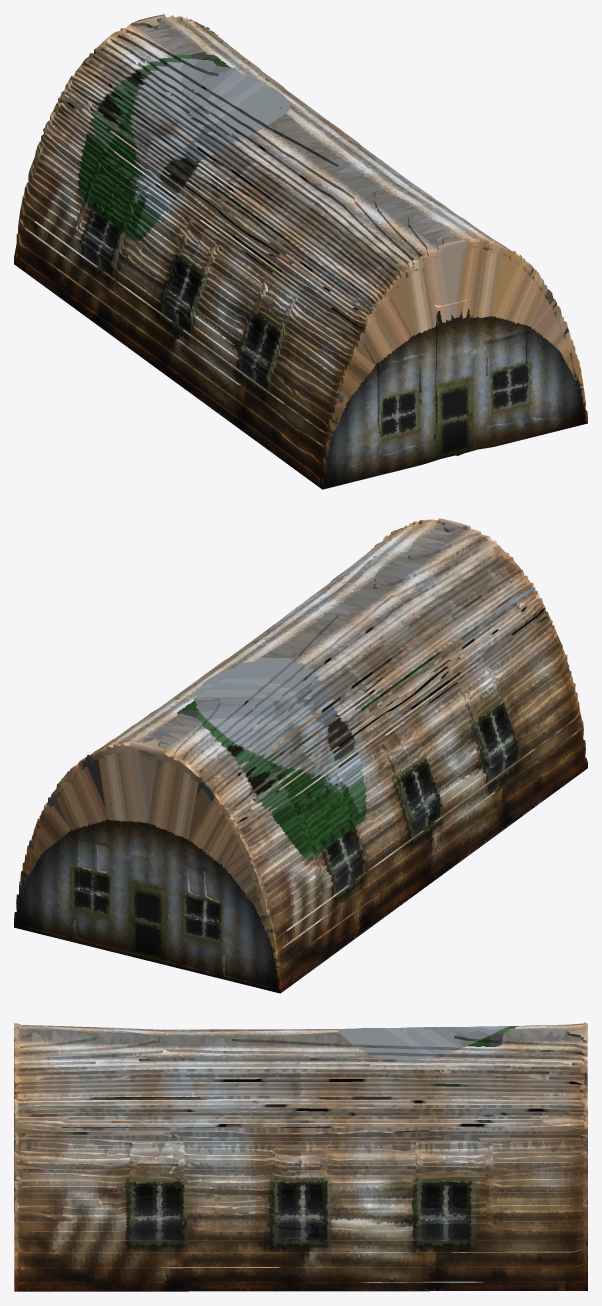
The model's file is quonset2_hd.glb.
The picture shows the model from 3 angles, top to bottom: view 1: azimuth 30°, elevation 25°; view 2: azimuth 150°, elevation 25°; view 3: azimuth 270°, elevation 25°; orthographic projection. The views are drawn at different scales.
Visible parts, largest first — view 1: hd_body; view 2: hd_body; view 3: hd_body.
Part boxes in pixels (x1,y1,x2,y2): hd_body: (14,14,587,489); hd_body: (14,518,587,993); hd_body: (14,1022,587,1291).
Bounding box in the file's own units: 8.46 × 6.49 × 16.92.
1 material, 1 textured.
